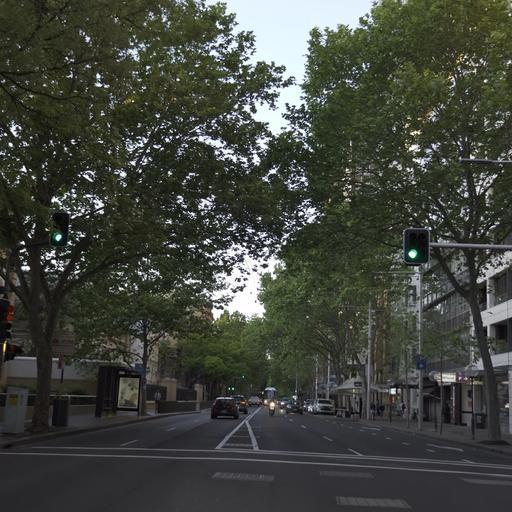Street light: (402, 227, 511, 265), (402, 227, 429, 265), (429, 241, 511, 251), (49, 210, 69, 246), (458, 156, 511, 166)
